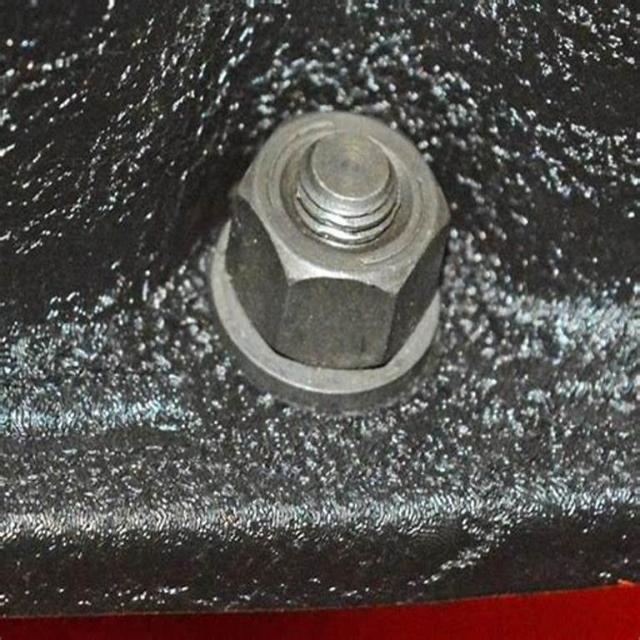bolt nut: (221, 101, 453, 372)
